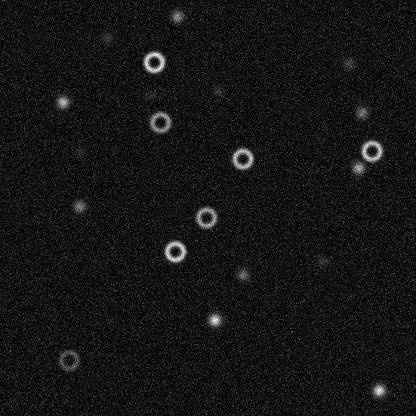Ring: (162, 239, 186, 263), (230, 146, 254, 170), (142, 50, 166, 74), (148, 110, 172, 134), (56, 348, 80, 372), (359, 138, 383, 162), (194, 205, 218, 229)
Spot: (340, 55, 356, 71), (234, 266, 250, 282), (210, 83, 226, 99), (206, 311, 222, 327), (314, 253, 330, 269), (350, 159, 366, 175), (71, 144, 87, 160), (142, 86, 158, 102), (54, 93, 70, 109), (169, 8, 185, 24), (353, 104, 369, 120), (370, 382, 386, 398), (98, 29, 114, 45), (71, 198, 87, 214)
